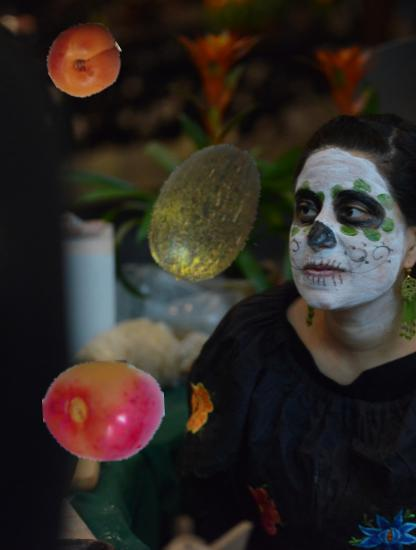Apricot: (46, 22, 122, 98)
Cherry: (43, 351, 165, 473)
Melon: (136, 141, 284, 289)
